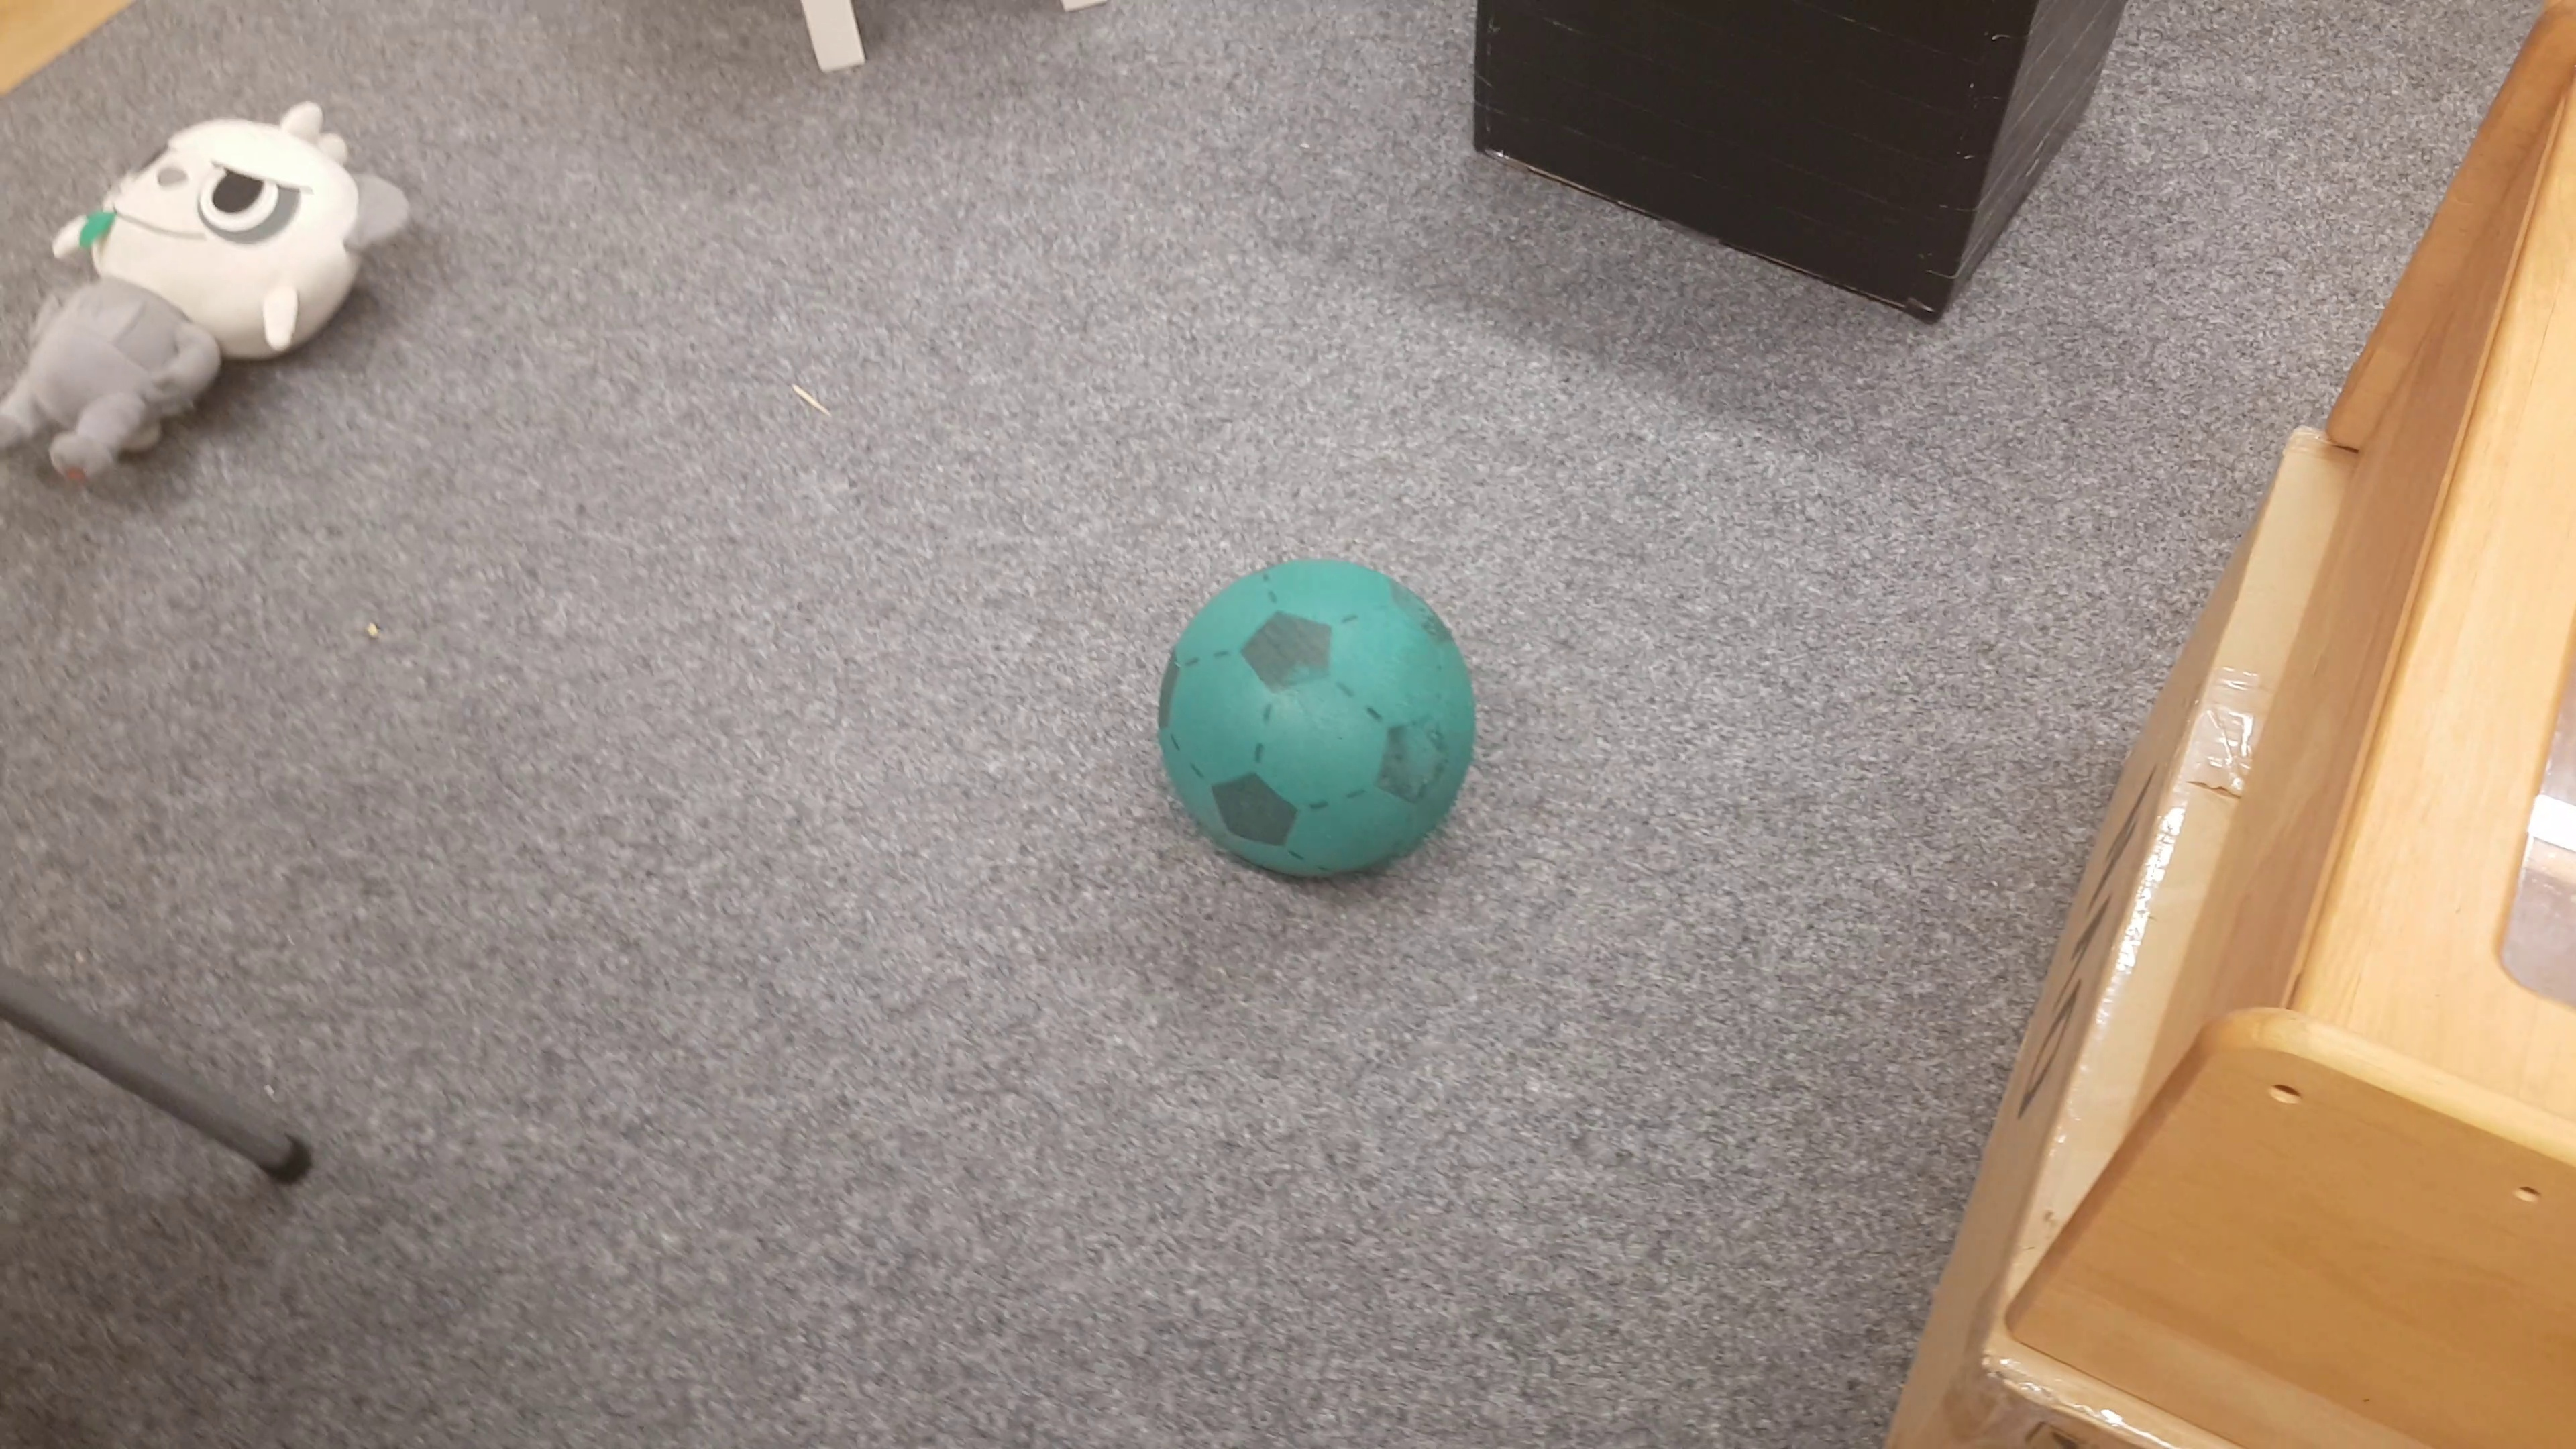grasp: (7, 99, 414, 501)
kick: (1166, 556, 1474, 892)
push: (1476, 0, 2132, 324)
